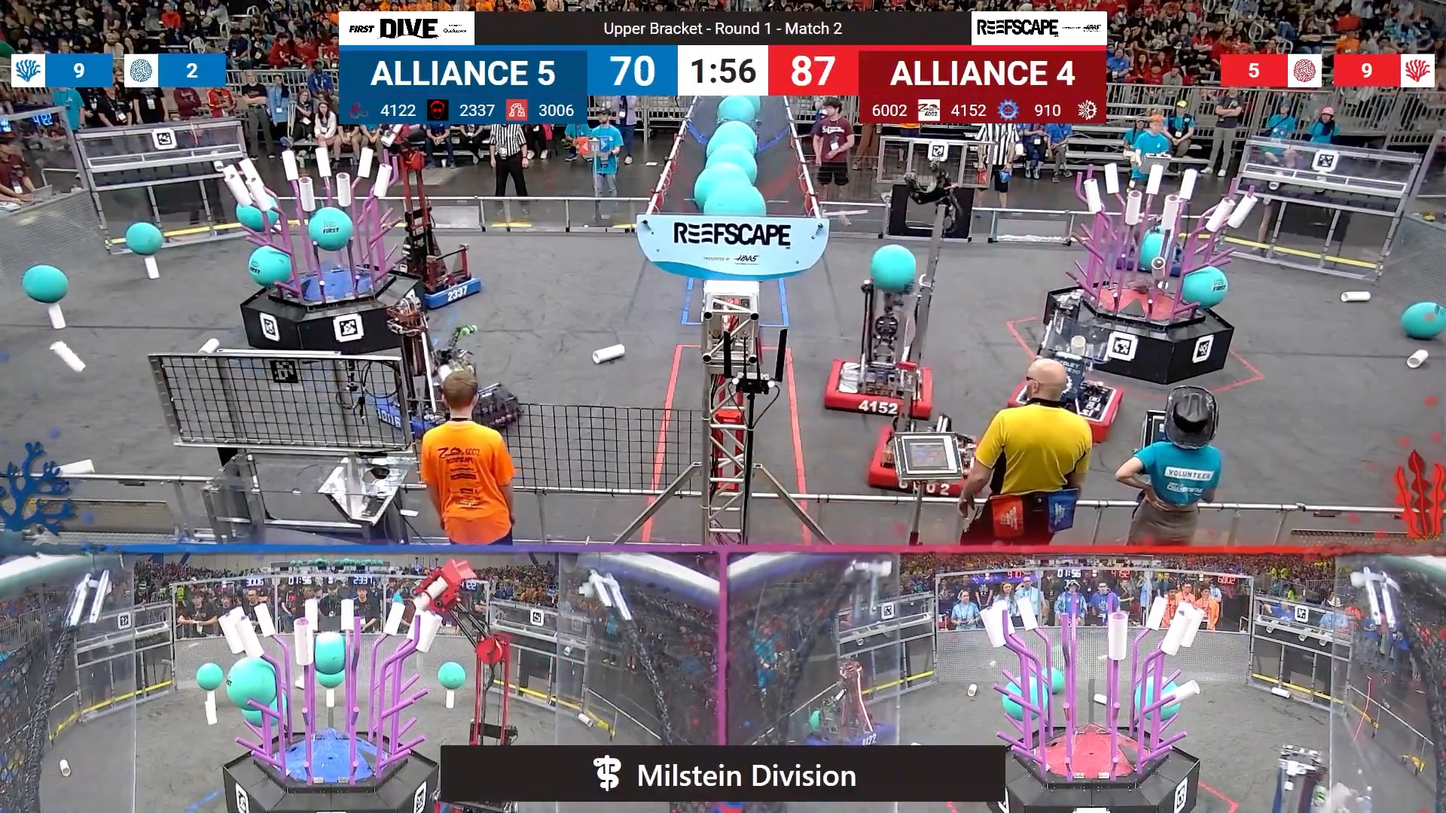bumpers: (1005, 373, 1130, 443), (863, 425, 980, 498), (815, 354, 939, 420), (366, 387, 520, 440), (401, 269, 488, 314)
